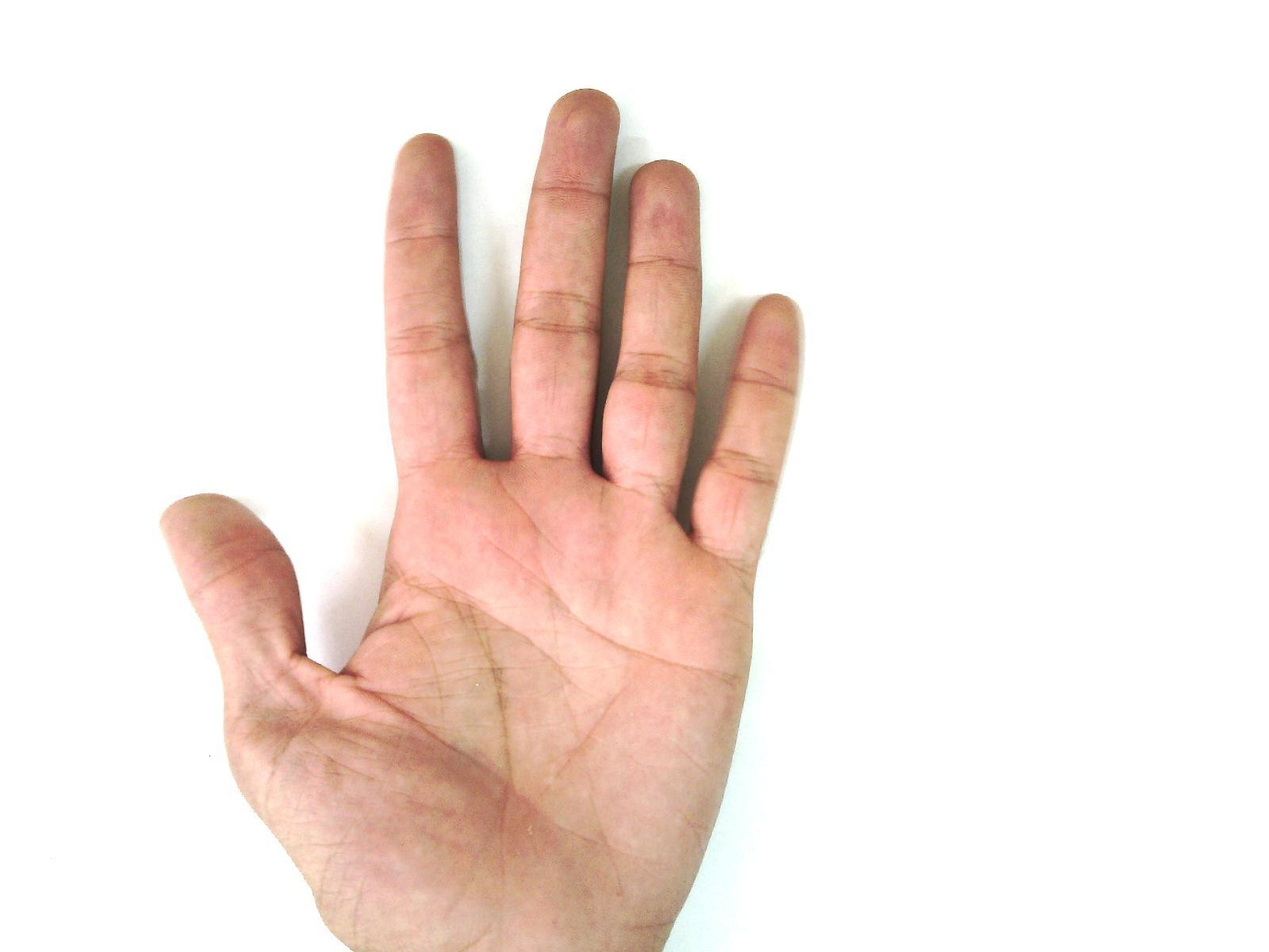open_palm: (158, 87, 807, 951)
